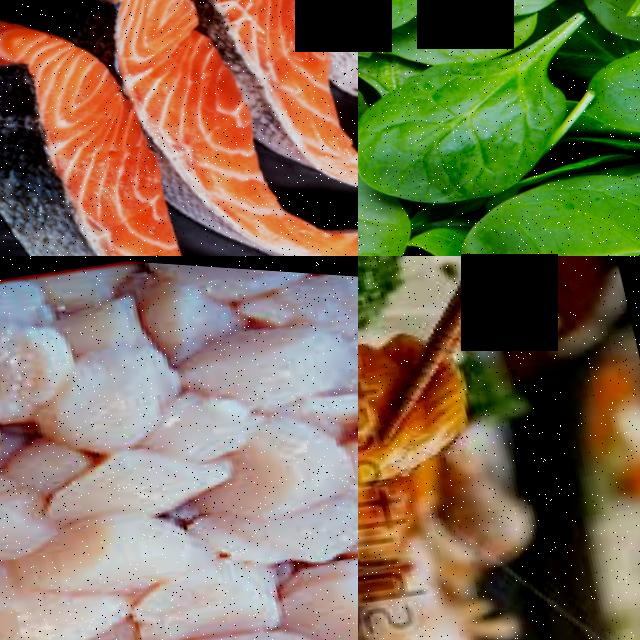salmon: (131, 33, 277, 249), (0, 85, 182, 256), (198, 0, 352, 165)
sea scallops: (183, 301, 353, 415), (22, 498, 197, 605), (224, 421, 357, 520), (285, 536, 358, 640), (165, 608, 336, 640)
spinach: (358, 14, 588, 223), (443, 131, 640, 256), (583, 22, 640, 153)
